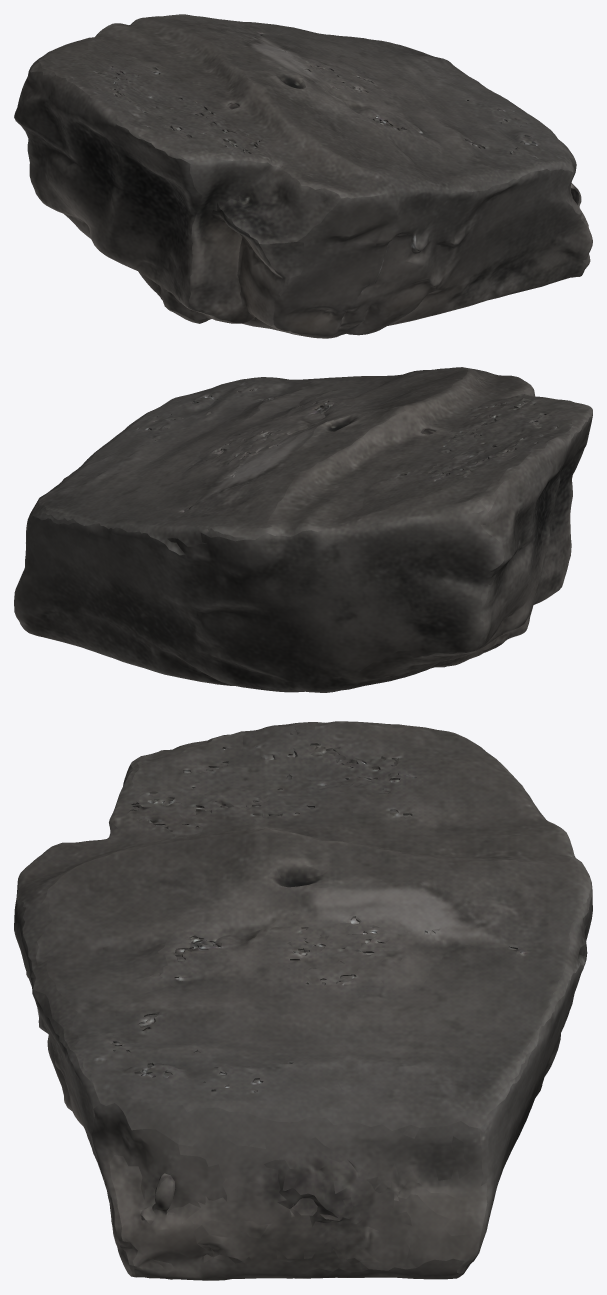
3 renders of one model, top to bottom at view 1: azimuth 30°, elevation 25°; view 2: azimuth 150°, elevation 25°; view 3: azimuth 270°, elevation 25°, orthographic. The views are drawn at different scales.
Visible parts, largest first — view 1: world; view 2: world; view 3: world.
Boxes of the visible parts, x1,y1,x2,y2 form: world: (14, 14, 592, 338); world: (14, 367, 592, 692); world: (14, 721, 592, 1280).
Bounding box in the file's own units: 0.45 × 0.2202 × 0.3896.
Materials: 1 (1 with a texture image).
